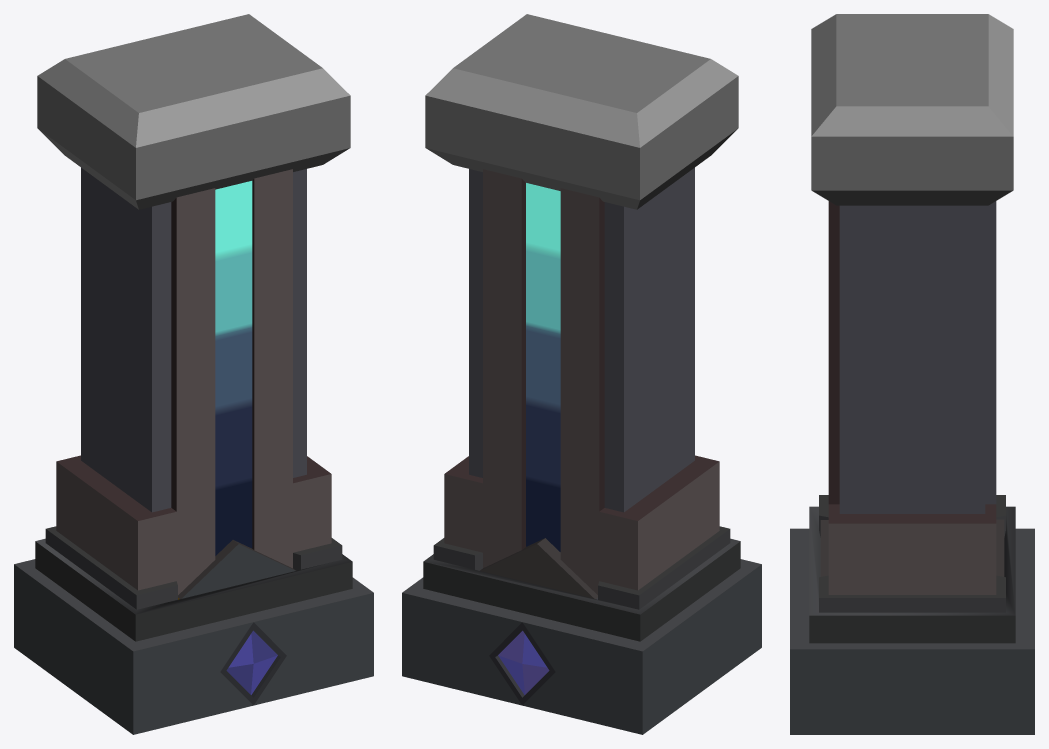
Rendered from Countdown_TimerFantasy_Base.glb.
3 renders of one model, left to right at view 1: azimuth 30°, elevation 25°; view 2: azimuth 150°, elevation 25°; view 3: azimuth 270°, elevation 25°, orthographic. The views are drawn at different scales.
Parts seen in each view (by area): view 1: TimerFantasy; view 2: TimerFantasy; view 3: TimerFantasy.
Part boxes in pixels (left/top/right/bottom): TimerFantasy: left=14, top=14, right=373, bottom=734; TimerFantasy: left=402, top=14, right=761, bottom=734; TimerFantasy: left=790, top=14, right=1034, bottom=734.
Size of what is drawn, in the model's own units: 0.8804 by 2.09 by 0.7557.
Materials: 2 (2 with a texture image).
